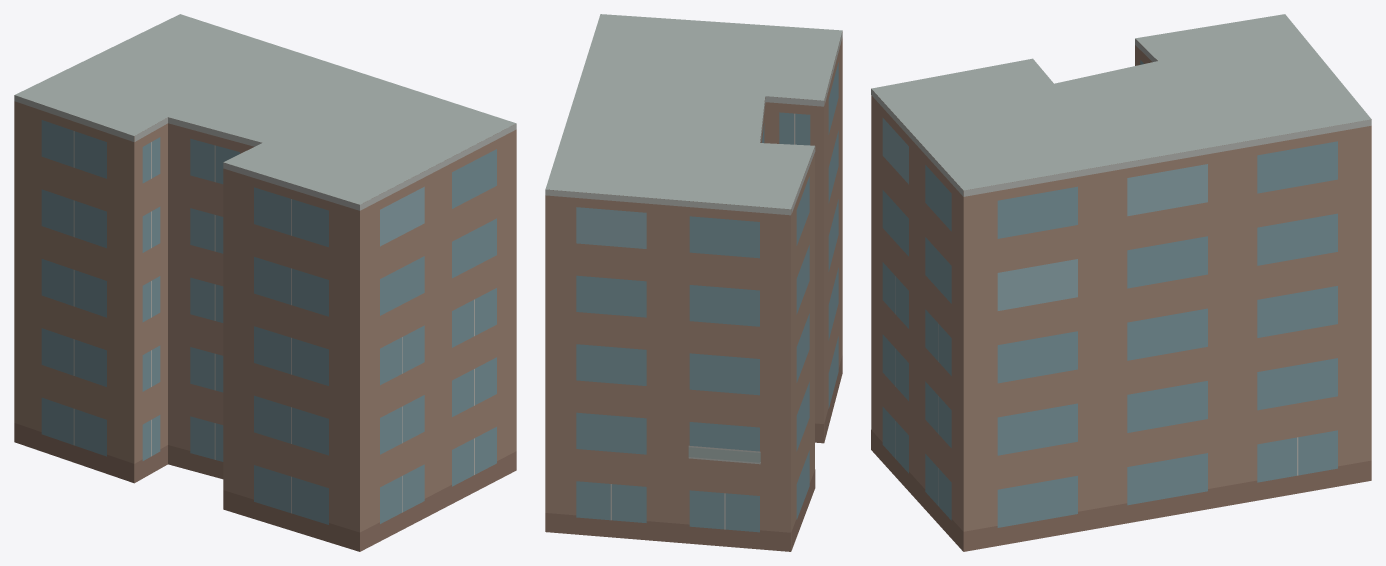
Rendered from survey-upis-32851354.glb.
The picture shows the model from 3 angles, left to right: view 1: azimuth 30°, elevation 25°; view 2: azimuth 150°, elevation 25°; view 3: azimuth 270°, elevation 25°; orthographic projection. The views are drawn at different scales.
Visible parts, largest first — view 1: survey-upis-32851354.tmp; view 2: survey-upis-32851354.tmp; view 3: survey-upis-32851354.tmp.
Part boxes in pixels (x1=…): survey-upis-32851354.tmp: x1=14, y1=14, x2=516, y2=551; survey-upis-32851354.tmp: x1=545, y1=14, x2=842, y2=551; survey-upis-32851354.tmp: x1=871, y1=14, x2=1371, y2=551.
Bounding box in the file's own units: 14.6 × 13.92 × 17.49.
